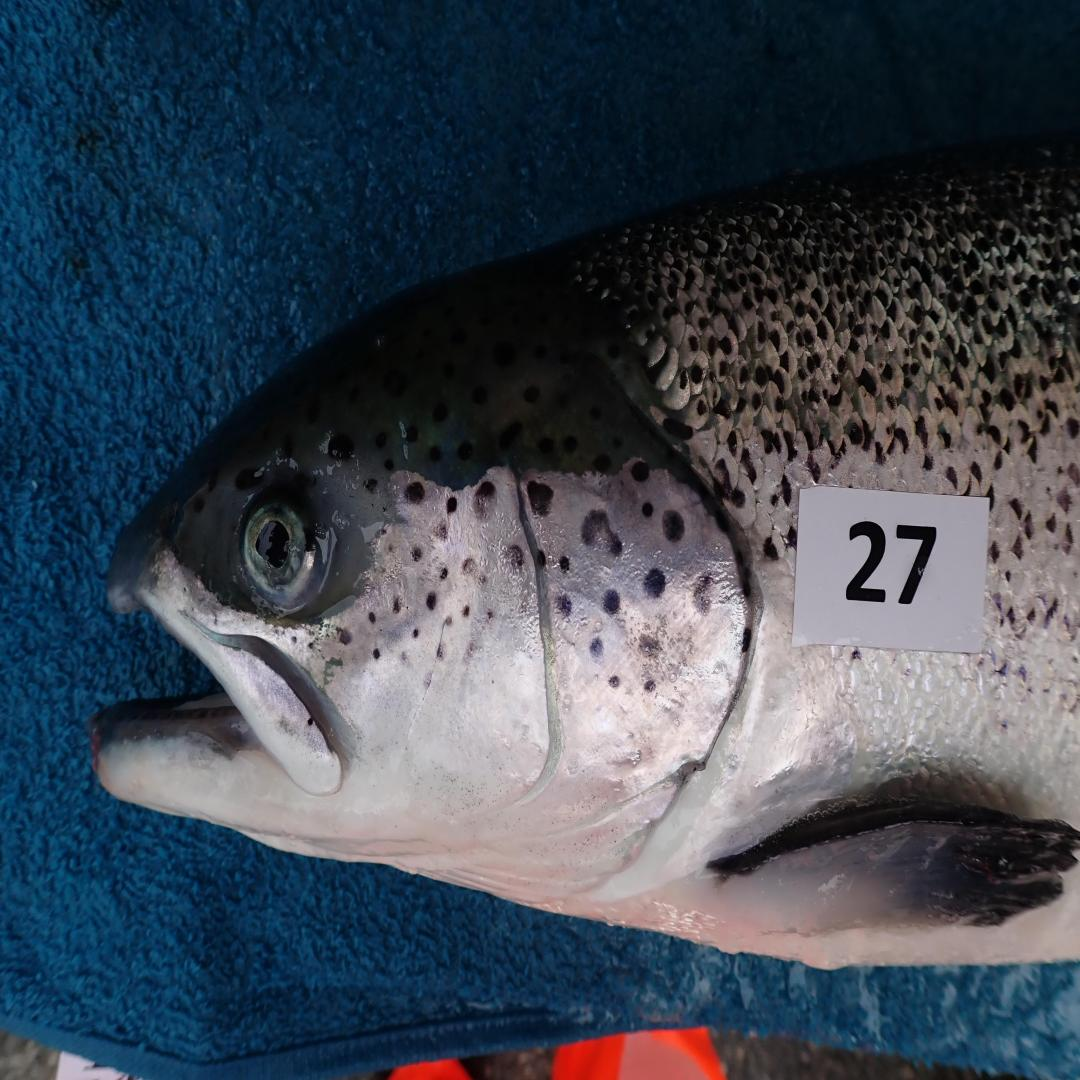spot: (582, 509, 622, 557), (527, 481, 553, 518), (472, 481, 496, 520), (693, 574, 713, 612), (662, 509, 683, 543), (637, 633, 662, 661), (643, 568, 667, 596), (405, 481, 424, 503), (507, 545, 524, 568), (631, 461, 650, 481), (603, 591, 620, 613), (557, 593, 572, 616), (462, 557, 477, 577), (399, 647, 411, 669), (591, 638, 603, 658), (435, 520, 447, 540), (437, 638, 447, 661), (742, 628, 751, 653), (641, 501, 654, 518), (447, 498, 458, 515), (426, 593, 437, 610), (411, 546, 422, 562), (340, 630, 352, 644), (644, 678, 656, 692), (559, 557, 570, 571), (485, 608, 496, 622), (367, 610, 378, 624), (392, 596, 401, 613), (411, 624, 420, 638), (443, 616, 454, 627), (538, 551, 546, 565), (462, 605, 470, 619), (610, 675, 620, 686), (373, 648, 380, 660), (441, 568, 447, 579)
